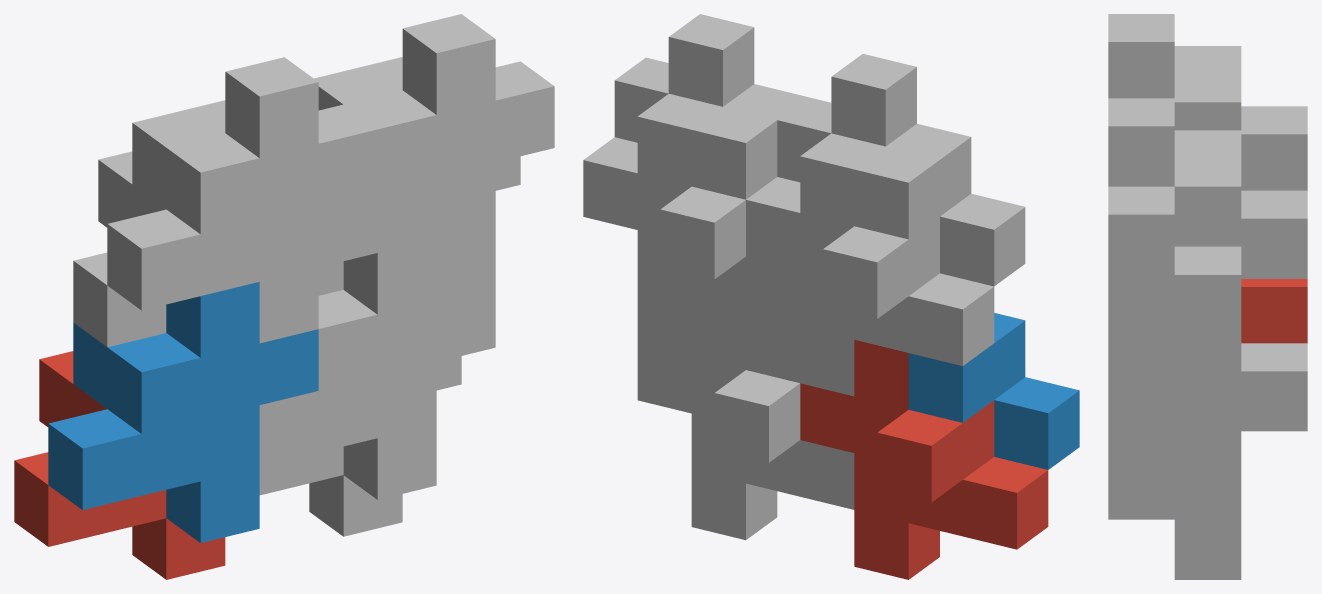
Rendered from tiling.obj.
3 renders of one model, left to right at view 1: azimuth 30°, elevation 25°; view 2: azimuth 150°, elevation 25°; view 3: azimuth 270°, elevation 25°, orthographic. The views are drawn at different scales.
Visible parts, largest first — view 1: copy_1_domain_4, copy_1_domain_2, copy_1_domain_8, copy_1_domain_6, copy_1_domain_1, copy_1_domain_3, copy_1_domain_5, copy_1_domain_7; view 2: copy_1_domain_3, copy_1_domain_1, copy_1_domain_7, copy_1_domain_5, copy_1_domain_4, copy_1_domain_8, copy_1_domain_2, copy_1_domain_6; view 3: copy_1_domain_7, copy_1_domain_8, copy_1_domain_5, copy_1_domain_6, copy_1_domain_3, copy_1_domain_4, copy_1_domain_1.
Boxes of the visible parts, bbox=[...] form: copy_1_domain_4: bbox=[107, 57, 377, 343]; copy_1_domain_2: bbox=[48, 282, 318, 542]; copy_1_domain_8: bbox=[314, 14, 554, 299]; copy_1_domain_6: bbox=[259, 238, 495, 499]; copy_1_domain_1: bbox=[14, 351, 225, 579]; copy_1_domain_3: bbox=[73, 100, 225, 347]; copy_1_domain_5: bbox=[259, 356, 461, 536]; copy_1_domain_7: bbox=[318, 57, 520, 295]; copy_1_domain_3: bbox=[746, 133, 994, 396]; copy_1_domain_1: bbox=[800, 340, 1048, 579]; copy_1_domain_7: bbox=[583, 94, 800, 356]; copy_1_domain_5: bbox=[637, 300, 854, 540]; copy_1_domain_4: bbox=[777, 54, 1025, 286]; copy_1_domain_8: bbox=[614, 14, 808, 199]; copy_1_domain_2: bbox=[908, 313, 1079, 469]; copy_1_domain_6: bbox=[746, 313, 800, 382]; copy_1_domain_7: bbox=[1174, 158, 1307, 427]; copy_1_domain_8: bbox=[1108, 98, 1241, 367]; copy_1_domain_5: bbox=[1174, 343, 1307, 579]; copy_1_domain_6: bbox=[1108, 367, 1174, 519]; copy_1_domain_3: bbox=[1174, 74, 1307, 190]; copy_1_domain_4: bbox=[1108, 14, 1241, 98]; copy_1_domain_1: bbox=[1241, 279, 1307, 343].
Bounding box in the file's own units: 8 × 8 × 3.
